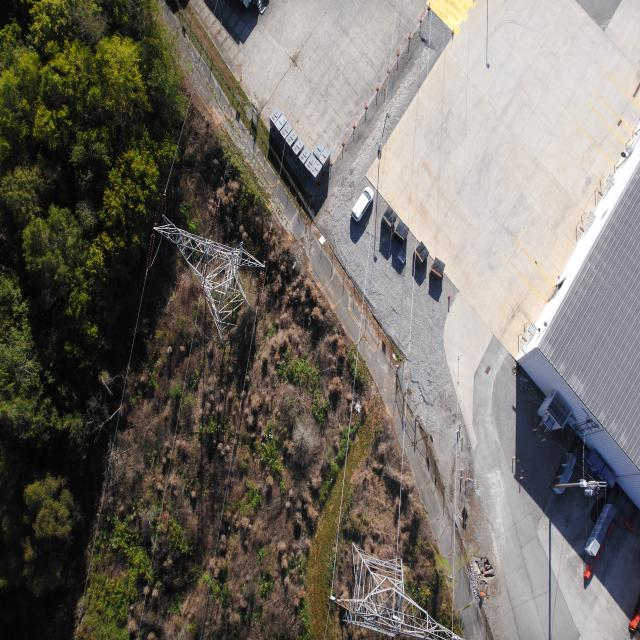Area of Interest: (0, 0, 166, 573)
